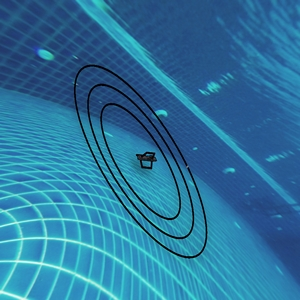circle: (68, 47, 221, 278)
submarine: (145, 146, 155, 164)
